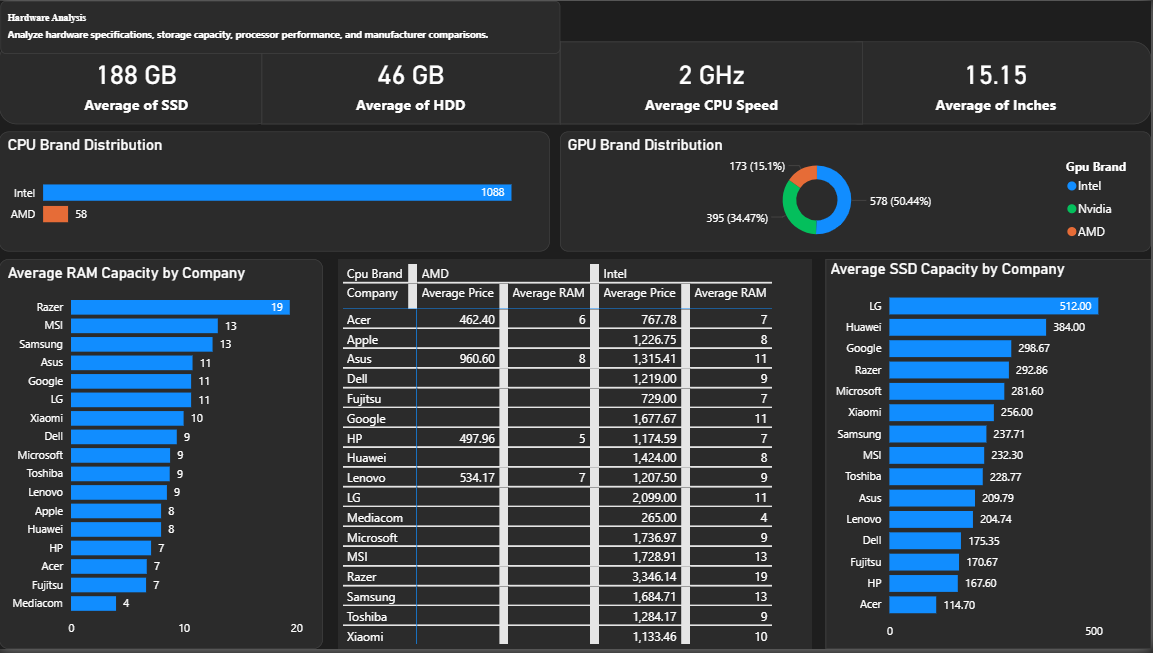

The page's visual inventory and layout, read from the dashboard file:
{"tool":"powerbi","page":{"name":"Hardware Analysis","canvas":[1280,720],"ordinal":2},"visuals":[{"type":"card","fields":{"Values":["Avg(Table1.SSD)"]},"box":[0,45,305,91.7],"z":0},{"type":"card","fields":{"Values":["Avg(Table1.HDD)"]},"box":[291.7,45,331.7,91.7],"z":1000},{"type":"card","fields":{"Values":["Avg(Table1.Inches)"]},"box":[935,45,345,91.7],"z":2000},{"type":"card","fields":{"Values":["Table1.Average CPU Speed"]},"box":[623.3,45,336.7,91.7],"z":3000},{"type":"clusteredBarChart","title":"Average RAM Capacity by Company","fields":{"Category":["Table1.Company"],"Y":["Table1.Average RAM"]},"box":[0,286.7,360,433.3],"z":4000},{"type":"clusteredBarChart","title":"Average SSD Capacity by Company","fields":{"Category":["Table1.Company"],"Y":["Avg(Table1.SSD)"]},"box":[918.3,286.7,361.7,433.3],"z":5000},{"type":"clusteredBarChart","title":"CPU Brand Distribution","fields":{"Category":["Table1.Cpu Brand"],"Y":["CountNonNull(Table1.Company)"]},"box":[0,145,611.7,133.3],"z":6000},{"type":"donutChart","title":"GPU Brand Distribution","fields":{"Category":["Table1.Gpu Brand"],"Y":["CountNonNull(Table1.Company)"]},"box":[623.3,145,656.7,133.3],"z":7000},{"type":"textbox","box":[1.7,0,621.7,58.3],"z":9000},{"type":"pivotTable","fields":{"Rows":["Table1.Company"],"Columns":["Table1.Cpu Brand"],"Values":["Table1.Average Price","Table1.Average RAM"]},"box":[376.7,286.7,526.7,433.3],"z":9001}]}

Visuals, with their boxes in screenshot pixels (x1, y1, x2, y2), scaled from the page's 1280x720 canvas onto the 1153x653 screenshot:
card - Avg(Table1.SSD): BBox(0, 41, 275, 124)
card - Avg(Table1.HDD): BBox(263, 41, 562, 124)
card - Avg(Table1.Inches): BBox(842, 41, 1152, 124)
card - Table1.Average CPU Speed: BBox(561, 41, 865, 124)
"Average RAM Capacity by Company" clusteredBarChart: BBox(0, 260, 324, 652)
"Average SSD Capacity by Company" clusteredBarChart: BBox(827, 260, 1152, 652)
"CPU Brand Distribution" clusteredBarChart: BBox(0, 132, 551, 252)
"GPU Brand Distribution" donutChart: BBox(561, 132, 1152, 252)
textbox: BBox(2, 0, 562, 53)
pivotTable - Table1.Company x Table1.Cpu Brand: BBox(339, 260, 814, 652)
